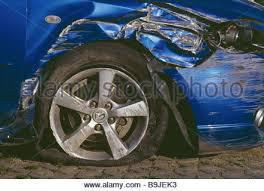fender-dent: (24, 0, 203, 51)
front-bumper-dent: (175, 50, 263, 149)
